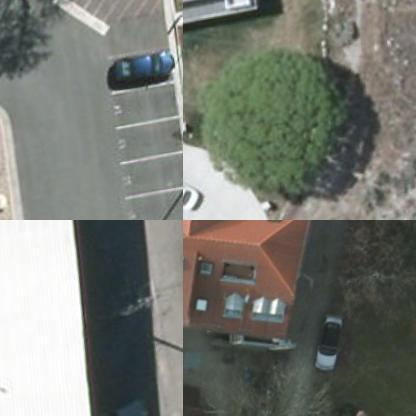car: (306, 315, 348, 374), (110, 51, 178, 84), (183, 159, 212, 219), (85, 401, 158, 415)
